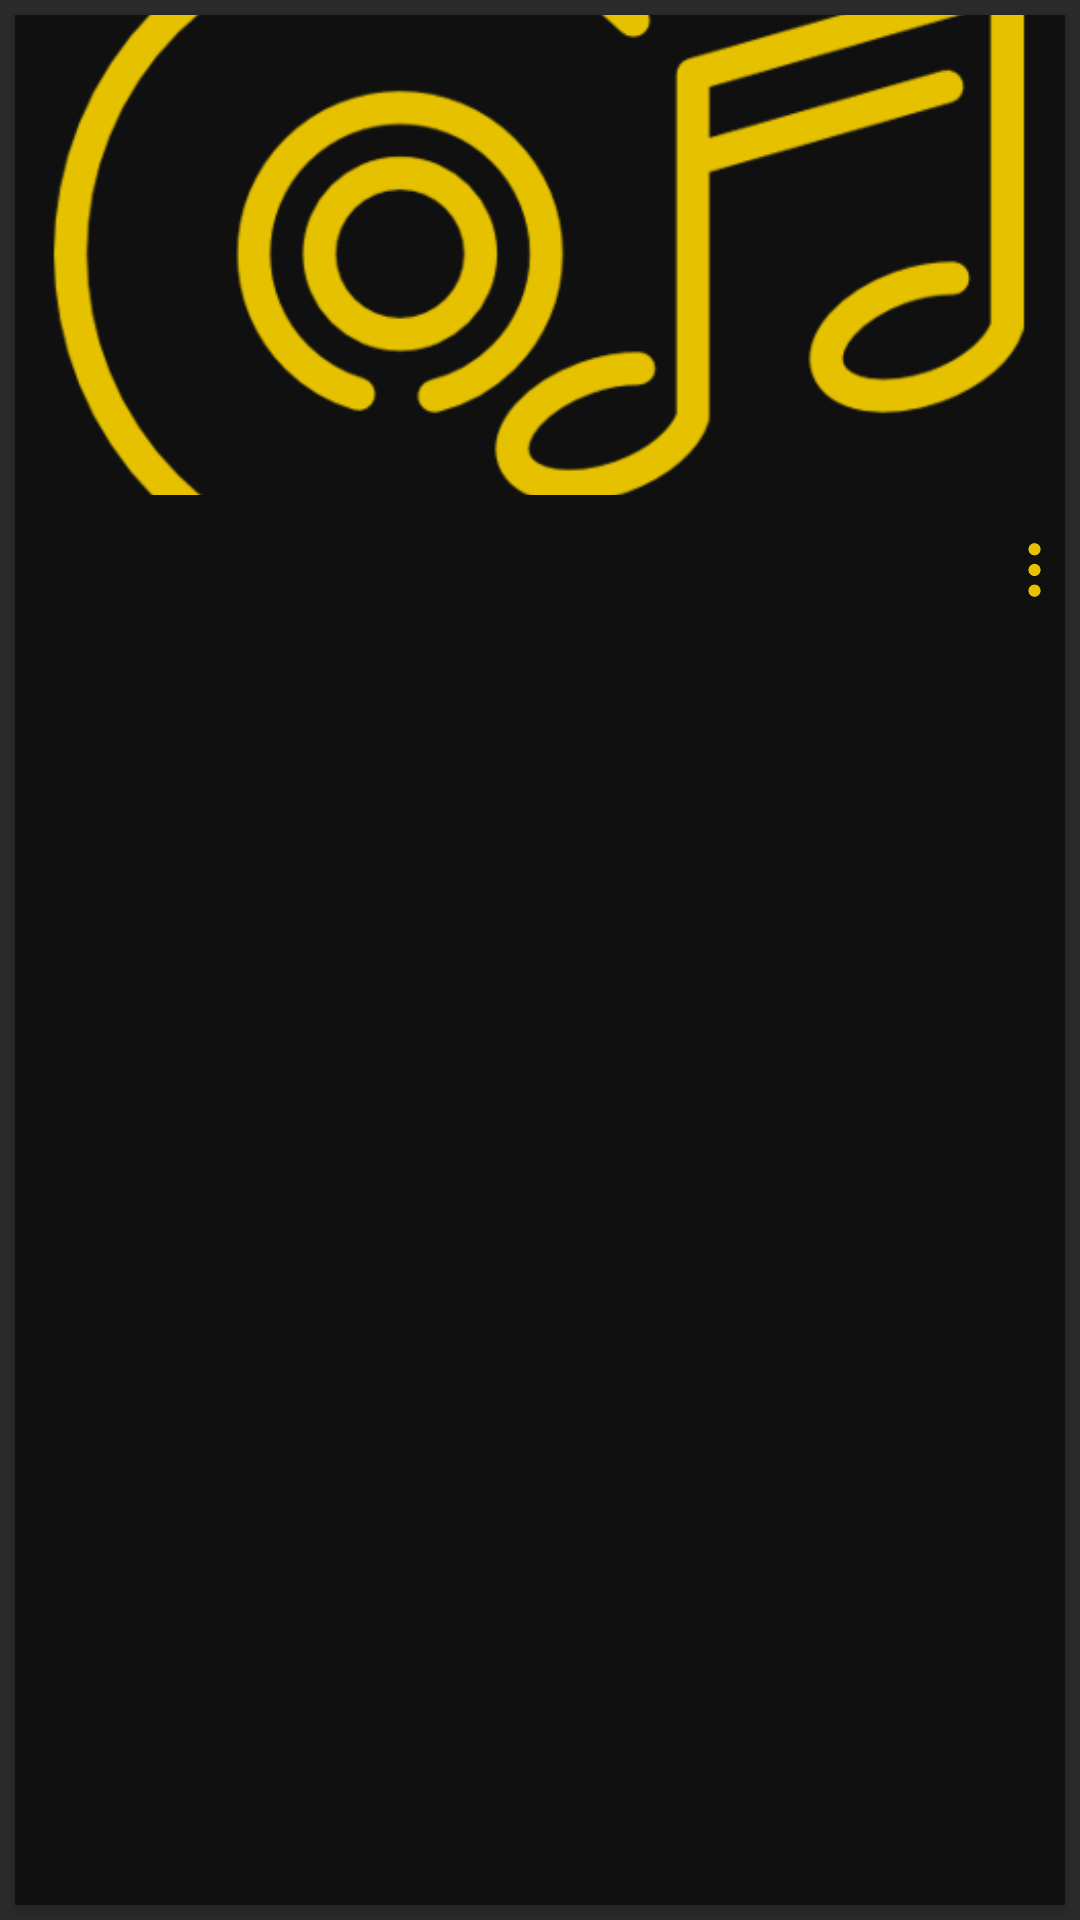

Icon click points for this 1080px x 1920px phone screenshot, format point (x, y):
dots: point (1034, 570)
